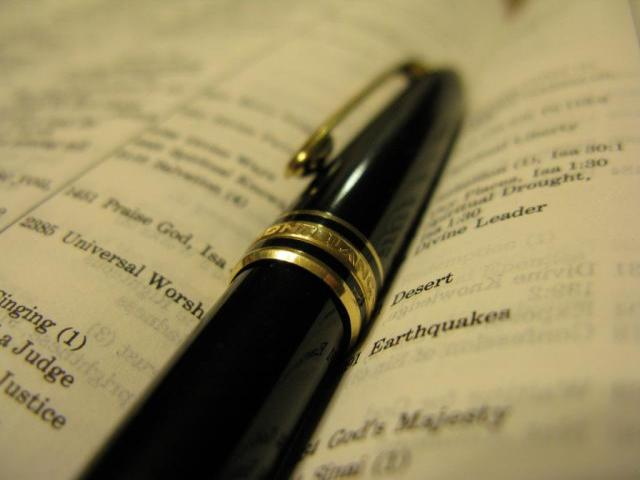PEN: (67, 1, 507, 480)
